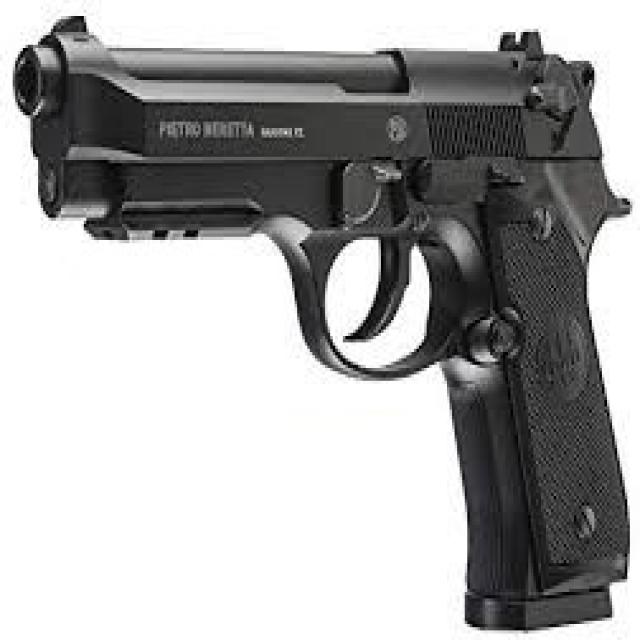pistol: (8, 4, 640, 640)
